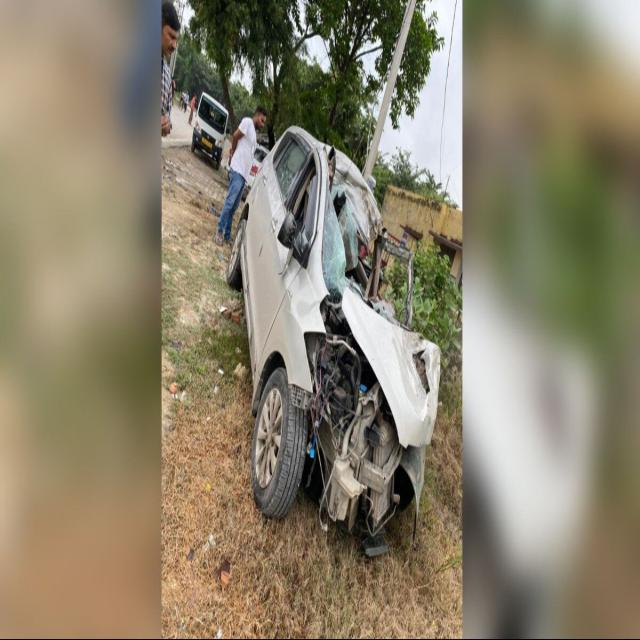accident: (228, 127, 440, 554)
truck: (191, 93, 229, 169)
